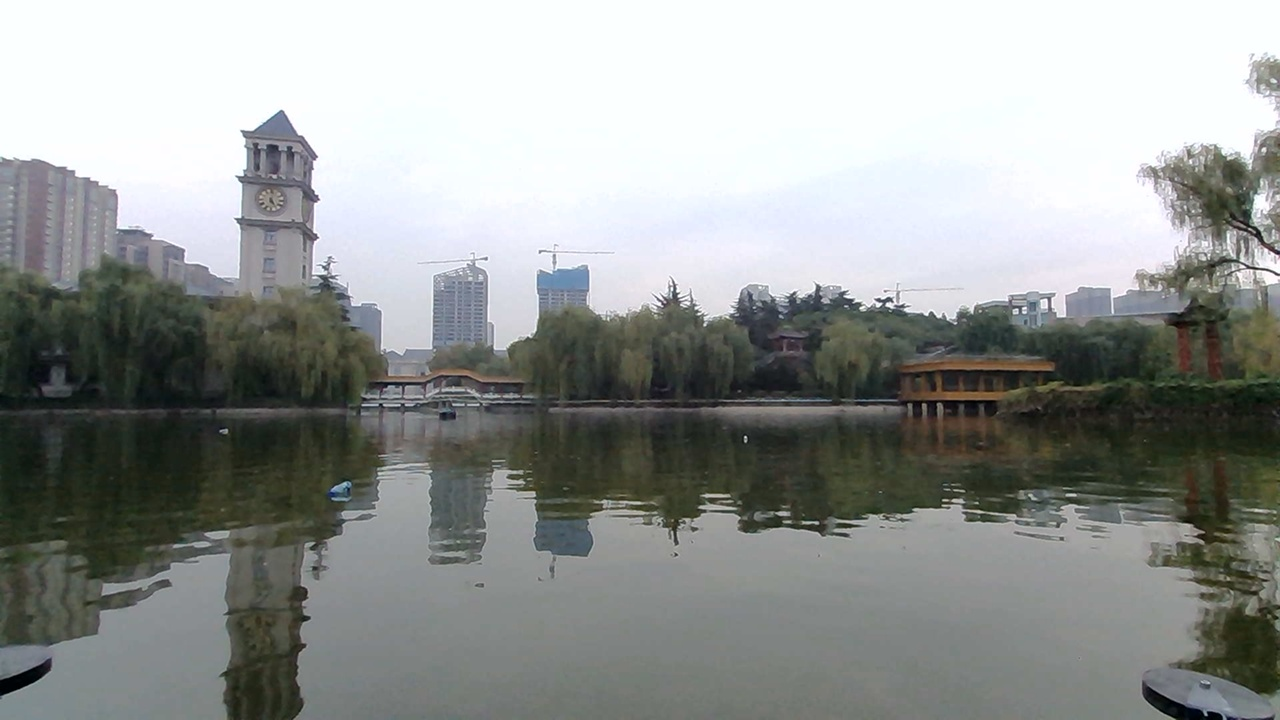bottle: (323, 480, 362, 504), (736, 423, 767, 450), (219, 418, 242, 436)
